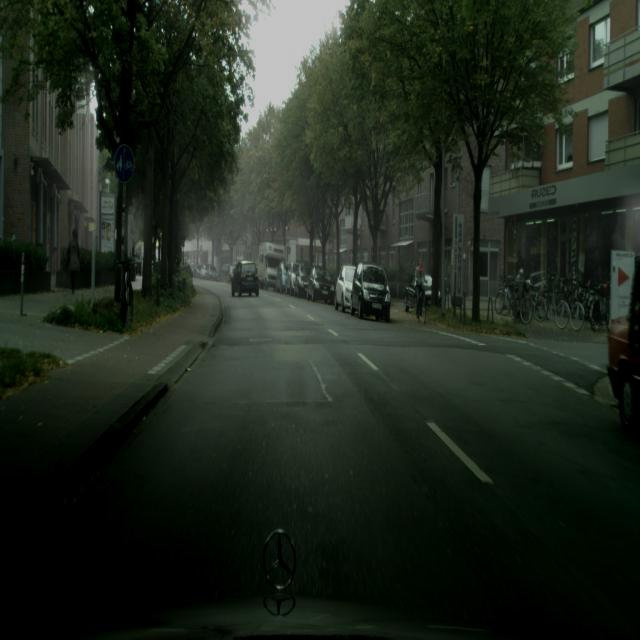bicycle: (606, 253, 640, 438), (258, 241, 286, 289)
bus: (350, 261, 391, 322), (230, 259, 260, 298), (307, 265, 335, 304), (334, 264, 356, 313), (292, 262, 310, 297), (284, 261, 295, 294)
car: (570, 279, 609, 331), (520, 274, 548, 322), (116, 258, 134, 331)
person: (67, 229, 81, 294), (414, 256, 427, 322)
